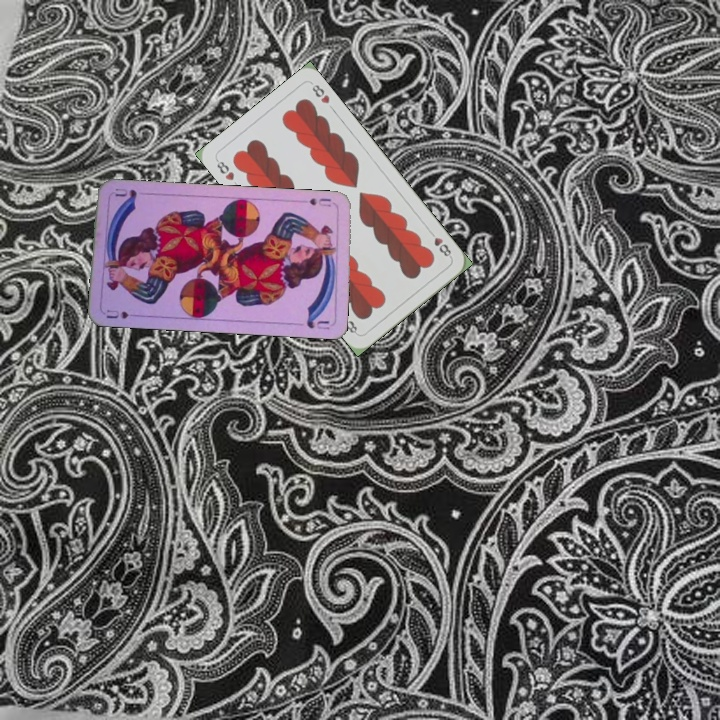H8: (425, 226, 454, 261), (212, 155, 237, 183)
SU: (102, 306, 143, 321), (305, 194, 333, 210)
